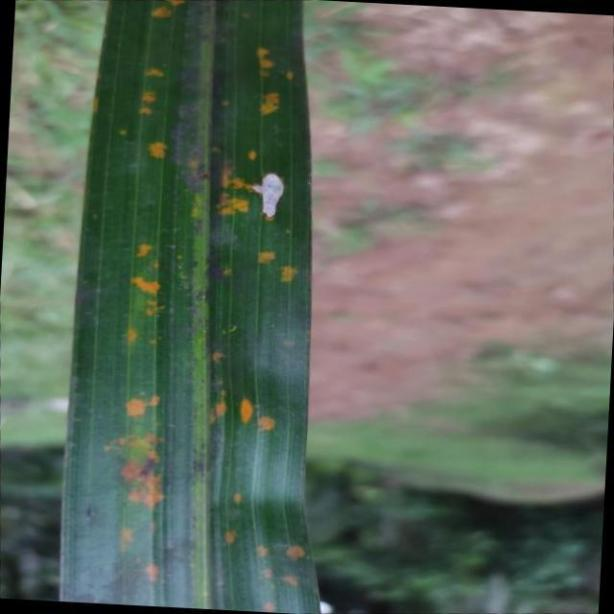Kalium: (56, 0, 318, 614)
